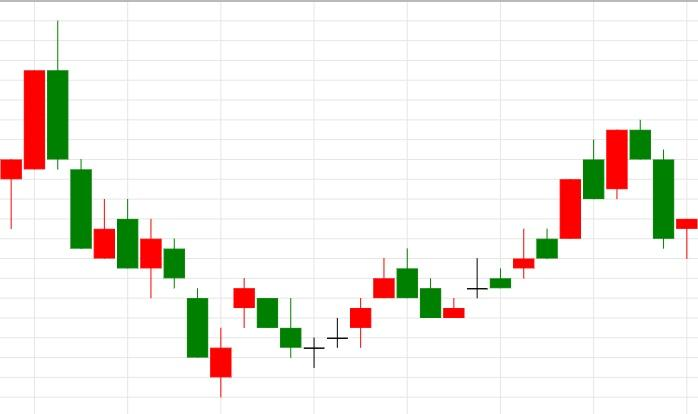bearish_engulfing_fall: (303, 249, 419, 368)
